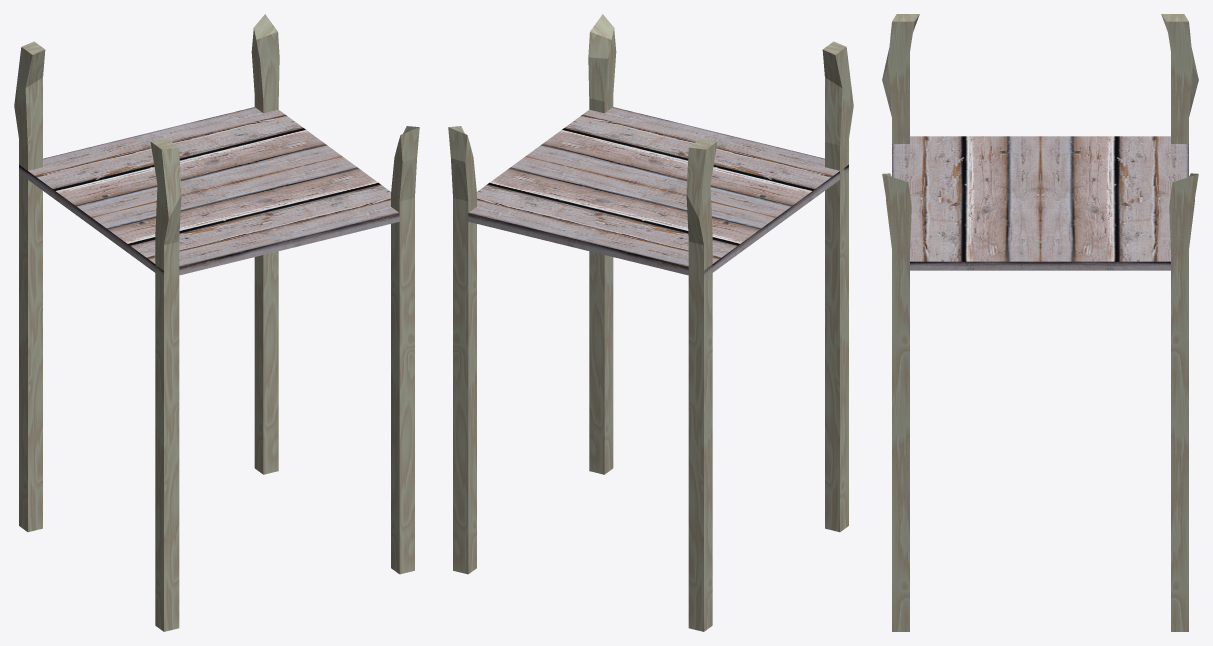
3 views of the same model, side by side, from view 1: azimuth 30°, elevation 25°; view 2: azimuth 150°, elevation 25°; view 3: azimuth 270°, elevation 25° (orthographic). The views are drawn at different scales.
Parts seen in each view (by area): view 1: brid031_woodsemwhite_0, brid031_woodboard_0; view 2: brid031_woodsemwhite_0, brid031_woodboard_0; view 3: brid031_woodboard_0, brid031_woodsemwhite_0.
Boxes of the visible parts, x1,y1,x2,y2 form: brid031_woodsemwhite_0: (14,14,419,631); brid031_woodboard_0: (19,107,399,278); brid031_woodsemwhite_0: (448,14,853,631); brid031_woodboard_0: (468,107,848,278); brid031_woodboard_0: (892,136,1188,270); brid031_woodsemwhite_0: (882,14,1198,631).
Bounding box in the file's own units: 3 × 5.49 × 3.2.
Materials: 2 (2 with a texture image).
